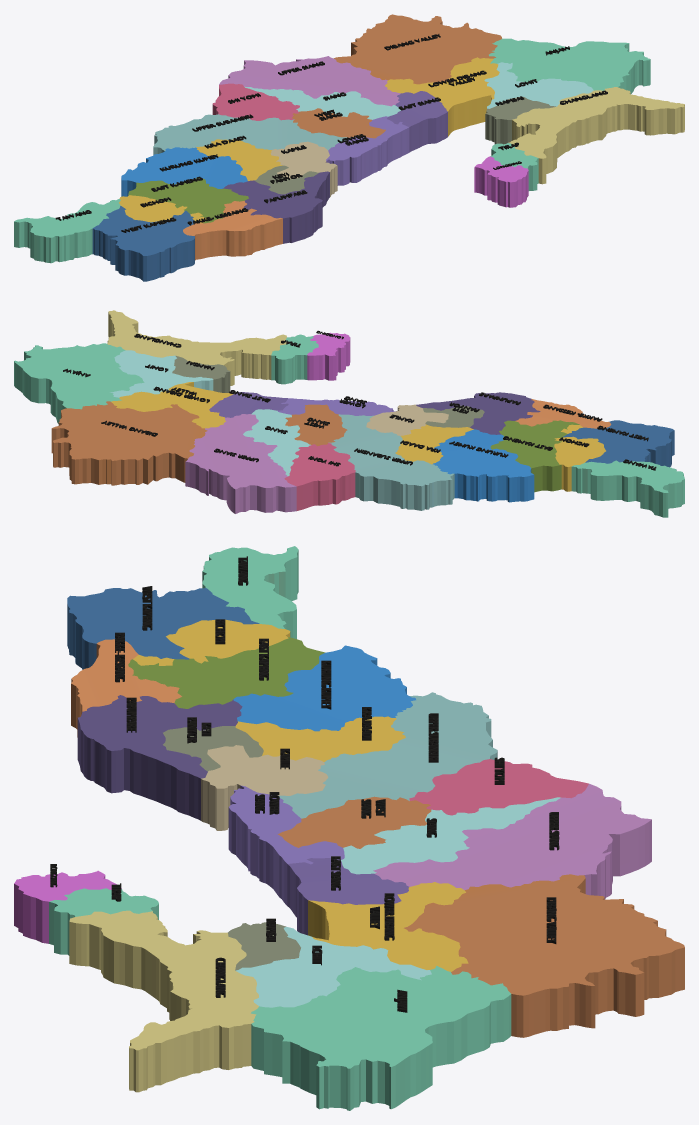
File: MAP_AP.glb
3 views of the same model, one above another, from view 1: azimuth 30°, elevation 25°; view 2: azimuth 150°, elevation 25°; view 3: azimuth 270°, elevation 25° (orthographic). The views are drawn at different scales.
Visible parts, largest first — view 1: Text.020, Text.014, Text.019, Text.003, Text.013, polySurface37, Text.002, Text.004, Text.015, polySurface44, polySurface39, polySurface29 (+13 smaller); view 2: Text.014, Text.013, polySurface37, Text.019, polySurface39, Text.020, Text.002, Text.010, Text.003, polySurface51, Text.015, Text.018 (+13 smaller); view 3: Text.014, Text.019, Text.020, Text.013, polySurface37, polySurface44, polySurface39, Text.003, Text.015, polySurface51, Text.018, polySurface29 (+13 smaller).
Boxes of the visible parts, <box> form: Text.020: <box>508,87,684,184</box>; Text.014: <box>334,14,501,84</box>; Text.019: <box>489,38,650,93</box>; Text.003: <box>92,206,194,281</box>; Text.013: <box>219,56,400,106</box>; polySurface37: <box>153,114,346,154</box>; Text.002: <box>14,199,120,263</box>; Text.004: <box>183,201,282,260</box>; Text.015: <box>385,57,499,136</box>; polySurface44: <box>222,171,329,243</box>; polySurface39: <box>121,147,247,196</box>; polySurface29: <box>326,116,409,185</box>; Text.014: <box>51,401,207,485</box>; Text.013: <box>185,414,296,513</box>; polySurface37: <box>328,414,454,510</box>; Text.019: <box>14,343,144,423</box>; polySurface39: <box>433,429,534,502</box>; Text.020: <box>107,310,286,385</box>; Text.002: <box>571,459,684,517</box>; Text.010: <box>284,443,355,510</box>; Text.003: <box>563,420,674,467</box>; polySurface51: <box>490,420,579,492</box>; Text.015: <box>111,382,233,428</box>; Text.018: <box>110,350,213,397</box>; Text.014: <box>404,874,684,1037</box>; Text.019: <box>251,966,511,1110</box>; Text.020: <box>69,910,258,1092</box>; Text.013: <box>373,783,651,899</box>; polySurface37: <box>279,692,497,818</box>; polySurface44: <box>77,695,242,820</box>; polySurface39: <box>233,645,415,731</box>; Text.003: <box>67,586,259,669</box>; Text.015: <box>308,882,468,971</box>; polySurface51: <box>128,637,325,708</box>; Text.018: <box>235,926,431,1007</box>; polySurface29: <box>228,785,344,905</box>.
Size of the model in its own units: 115 by 5.55 by 62.13.
Materials: 1 (1 with a texture image).
